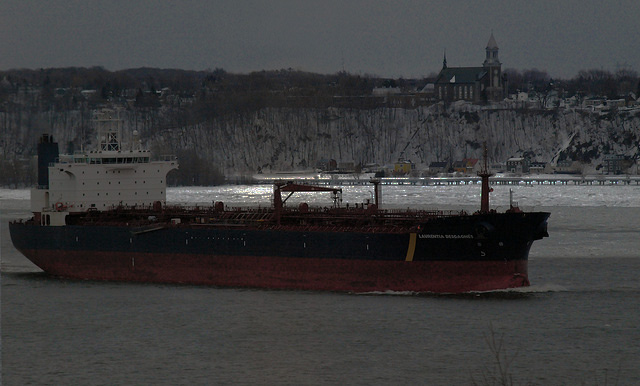tanker: (11, 109, 545, 295)
